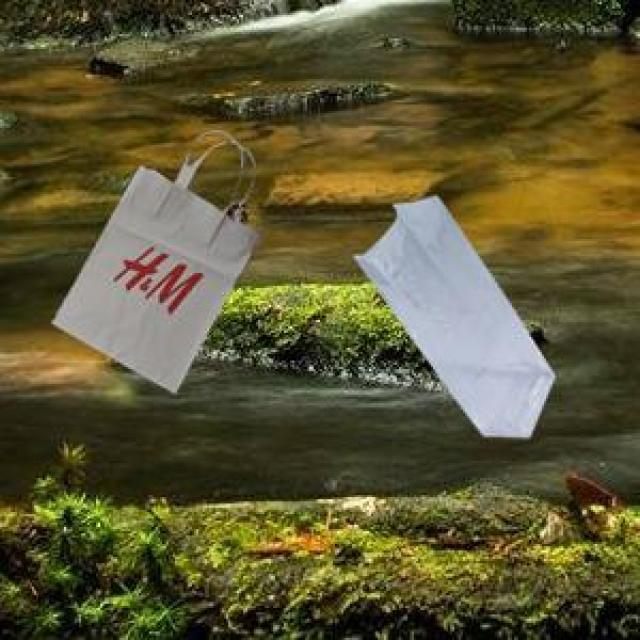paper: (49, 154, 258, 388)
